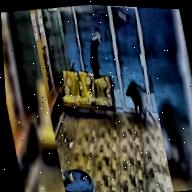boar: (110, 65, 161, 126)
